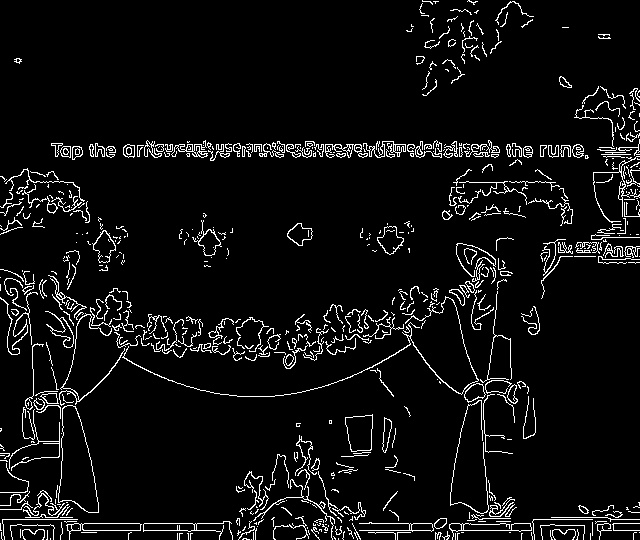down: (372, 221, 407, 257)
left: (279, 215, 320, 253)
up: (87, 226, 128, 270), (189, 225, 232, 263)
